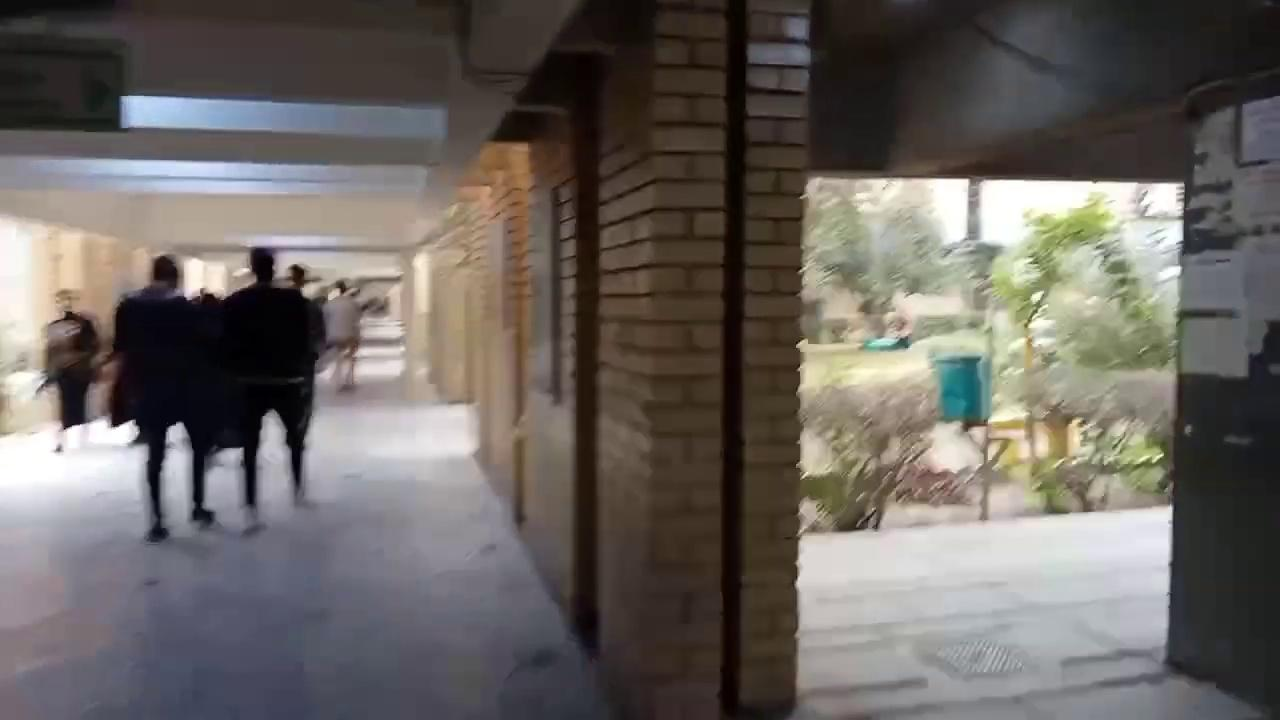person: (111, 254, 221, 542), (218, 246, 325, 536), (41, 288, 101, 453)
tree: (983, 188, 1178, 512), (799, 176, 977, 340), (798, 374, 941, 531)
